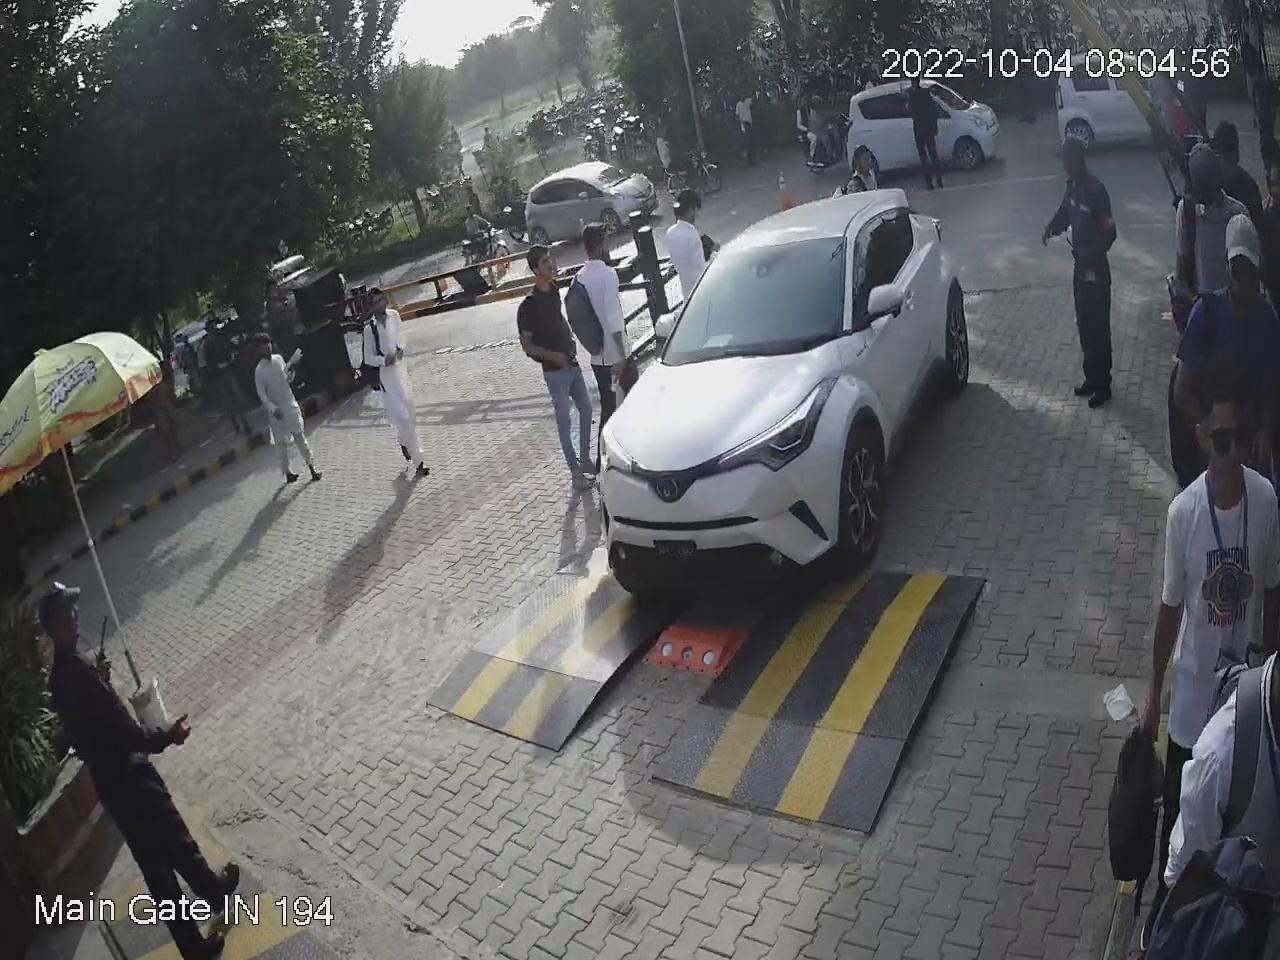windshield: (655, 230, 851, 360)
